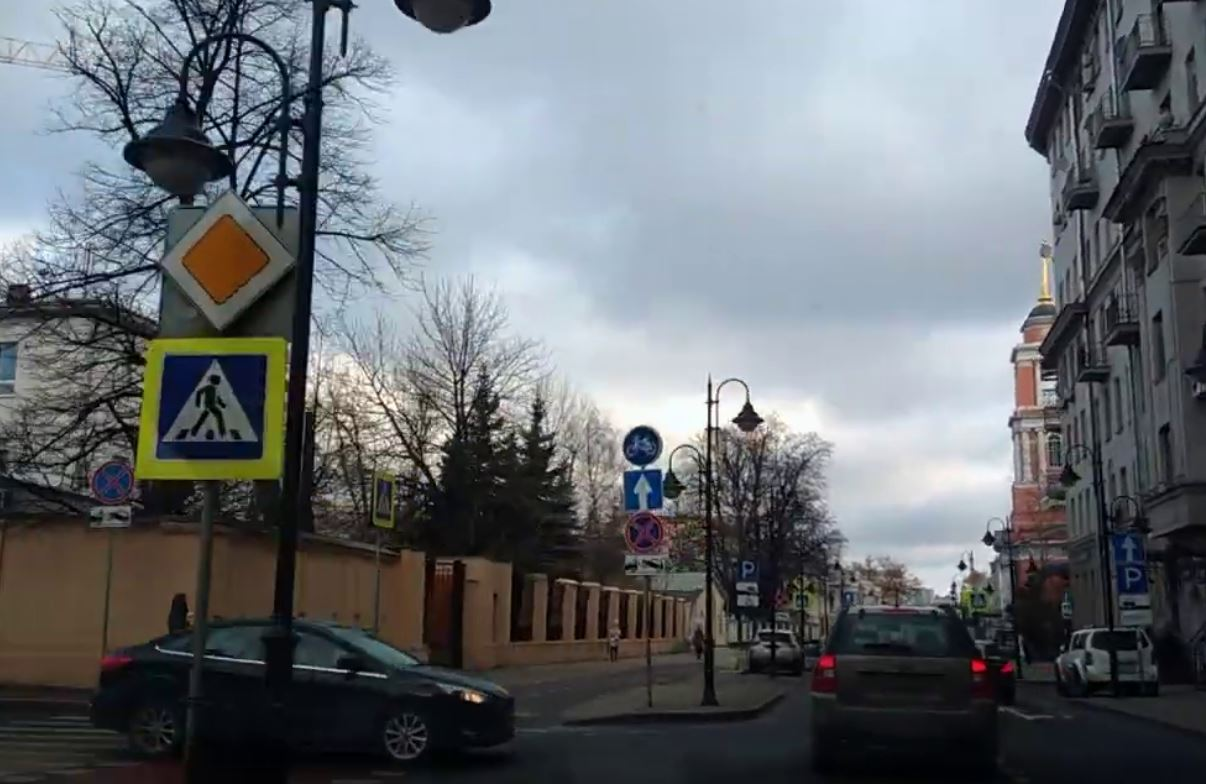Yaya Gecidi: (157, 356, 258, 463)
